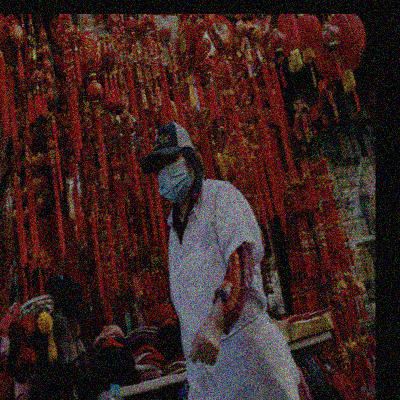with_mask: (244, 151, 299, 203)
